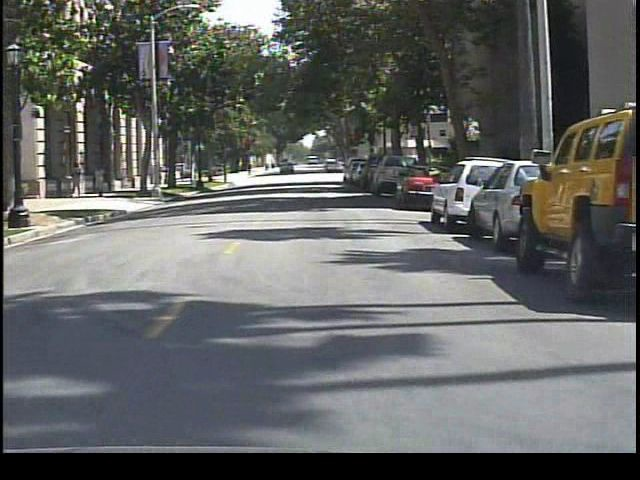person: (91, 161, 114, 199), (68, 159, 88, 201)
